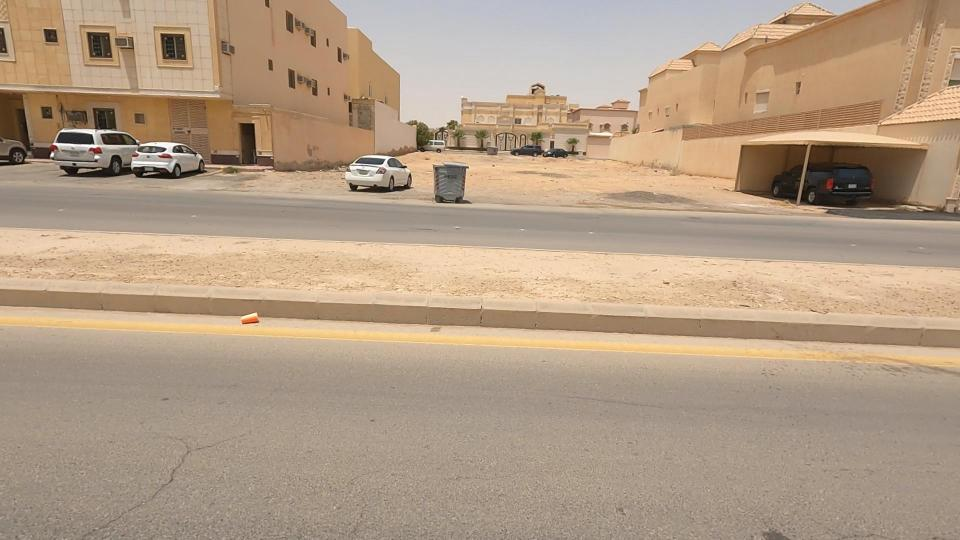CLUTTER_SIDEWALK: (0, 182, 388, 327), (276, 208, 718, 330), (572, 223, 955, 355)
GARBAGE: (197, 287, 299, 346)
